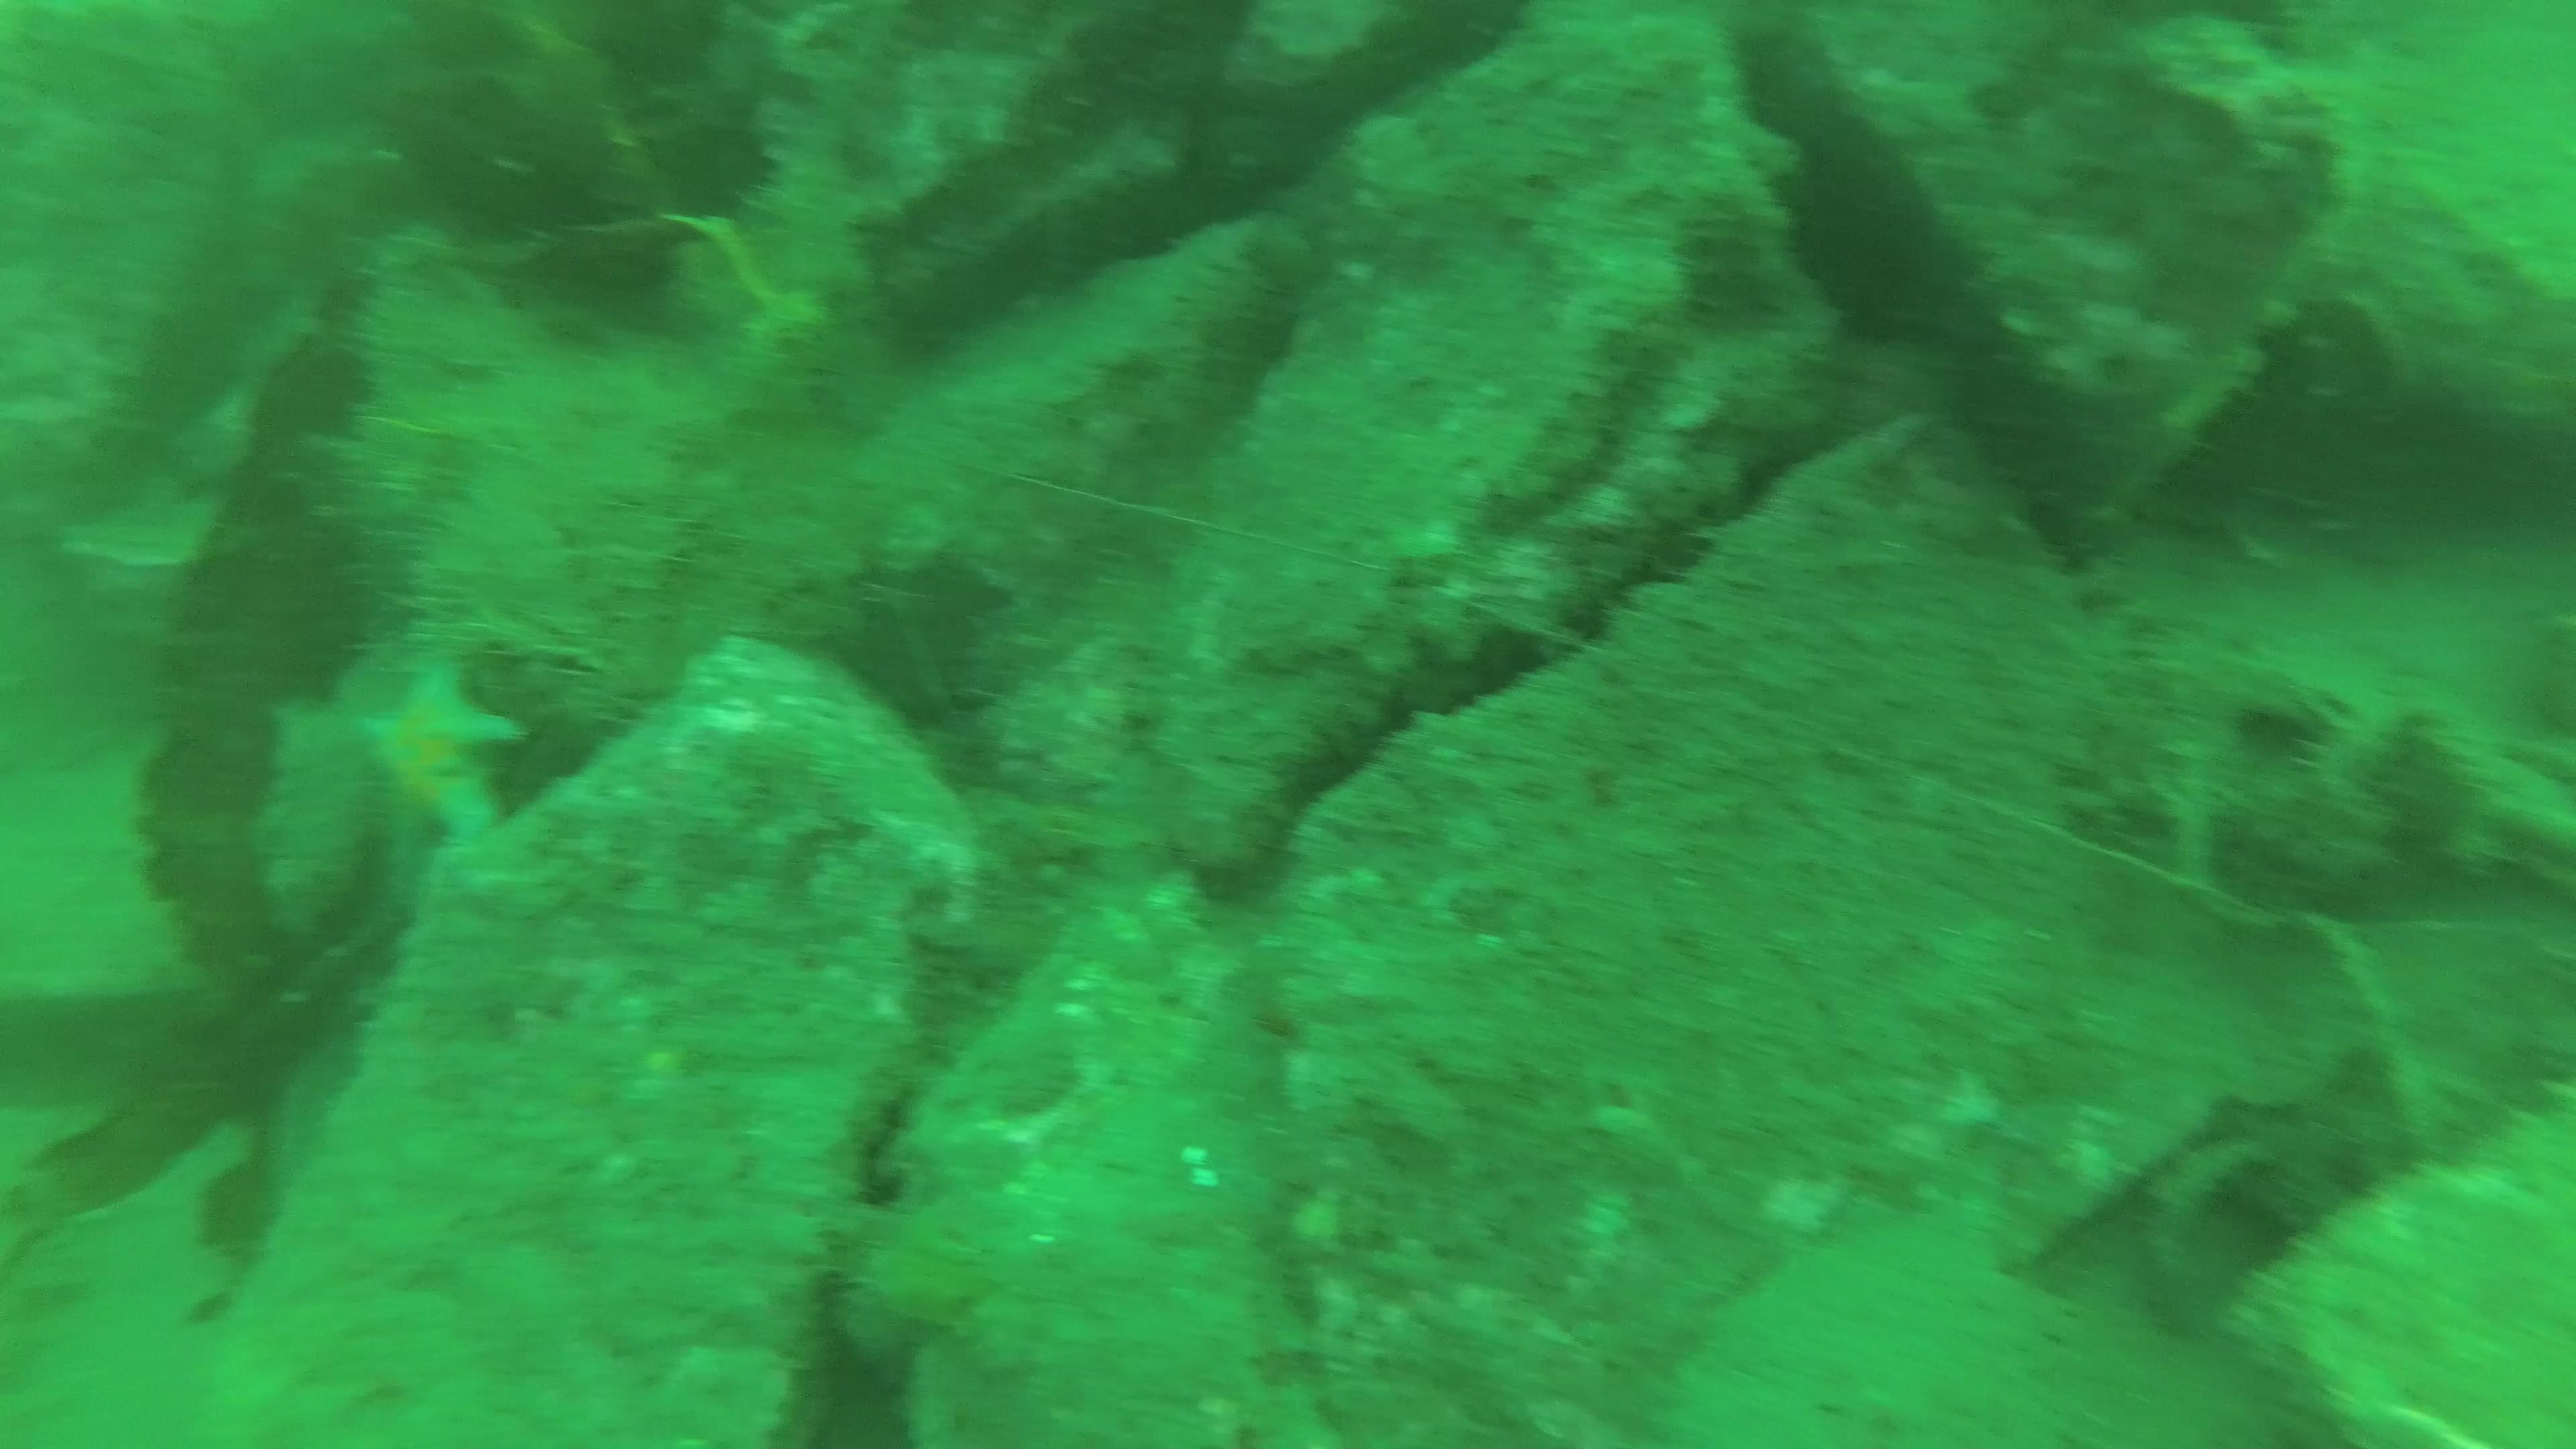starfish: (338, 655, 536, 860)
